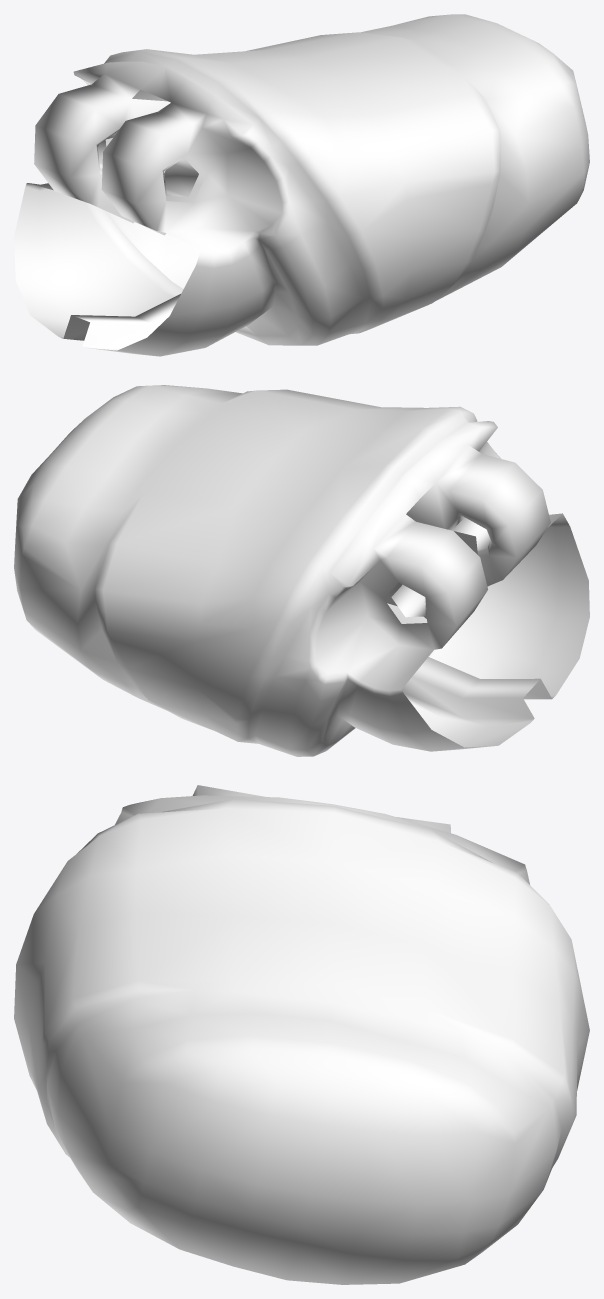
File: RFinger13.dae
3 views of the same model, one above another, from view 1: azimuth 30°, elevation 25°; view 2: azimuth 150°, elevation 25°; view 3: azimuth 270°, elevation 25° (orthographic). The views are drawn at different scales.
Visible parts, largest first — view 1: RFinger13; view 2: RFinger13; view 3: RFinger13.
Boxes of the visible parts, x1=… form: RFinger13: x1=14, y1=14, x2=589, y2=356; RFinger13: x1=14, y1=385, x2=589, y2=756; RFinger13: x1=14, y1=785, x2=589, y2=1284.
Bounding box in the file's own units: 0.0204 × 0.0161 × 0.0112.
